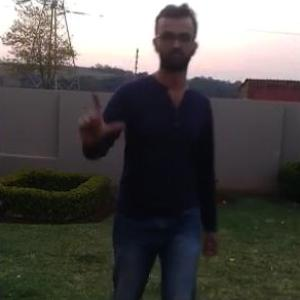land_hand: (68, 82, 125, 146)
